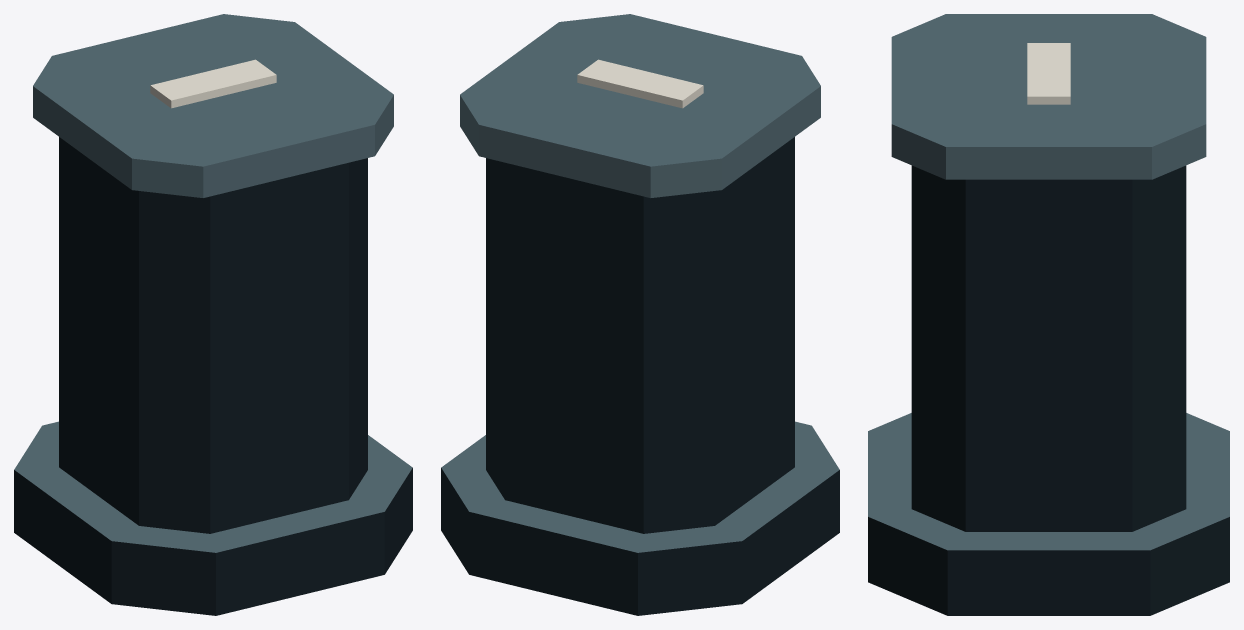
Rendered from pillar.glb.
3 renders of one model, left to right at view 1: azimuth 30°, elevation 25°; view 2: azimuth 150°, elevation 25°; view 3: azimuth 270°, elevation 25°, orthographic. The views are drawn at different scales.
Parts seen in each view (by area): view 1: pillar; view 2: pillar; view 3: pillar.
Part boxes in pixels (left/top/right/bottom): pillar: left=14, top=14, right=412, bottom=615; pillar: left=441, top=14, right=839, bottom=615; pillar: left=868, top=14, right=1229, bottom=615.
Bounding box in the file's own units: 1 × 1.43 × 1.
